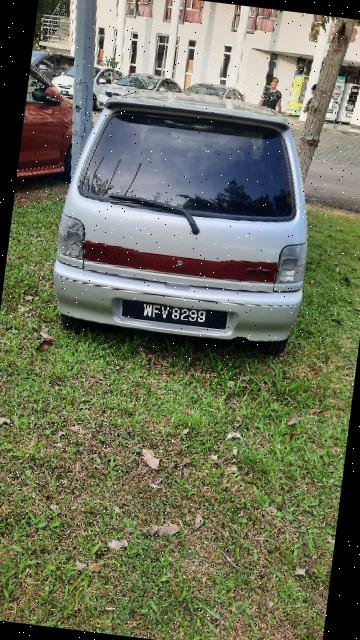License_Plate: (112, 287, 236, 337)
car: (40, 77, 348, 381)
